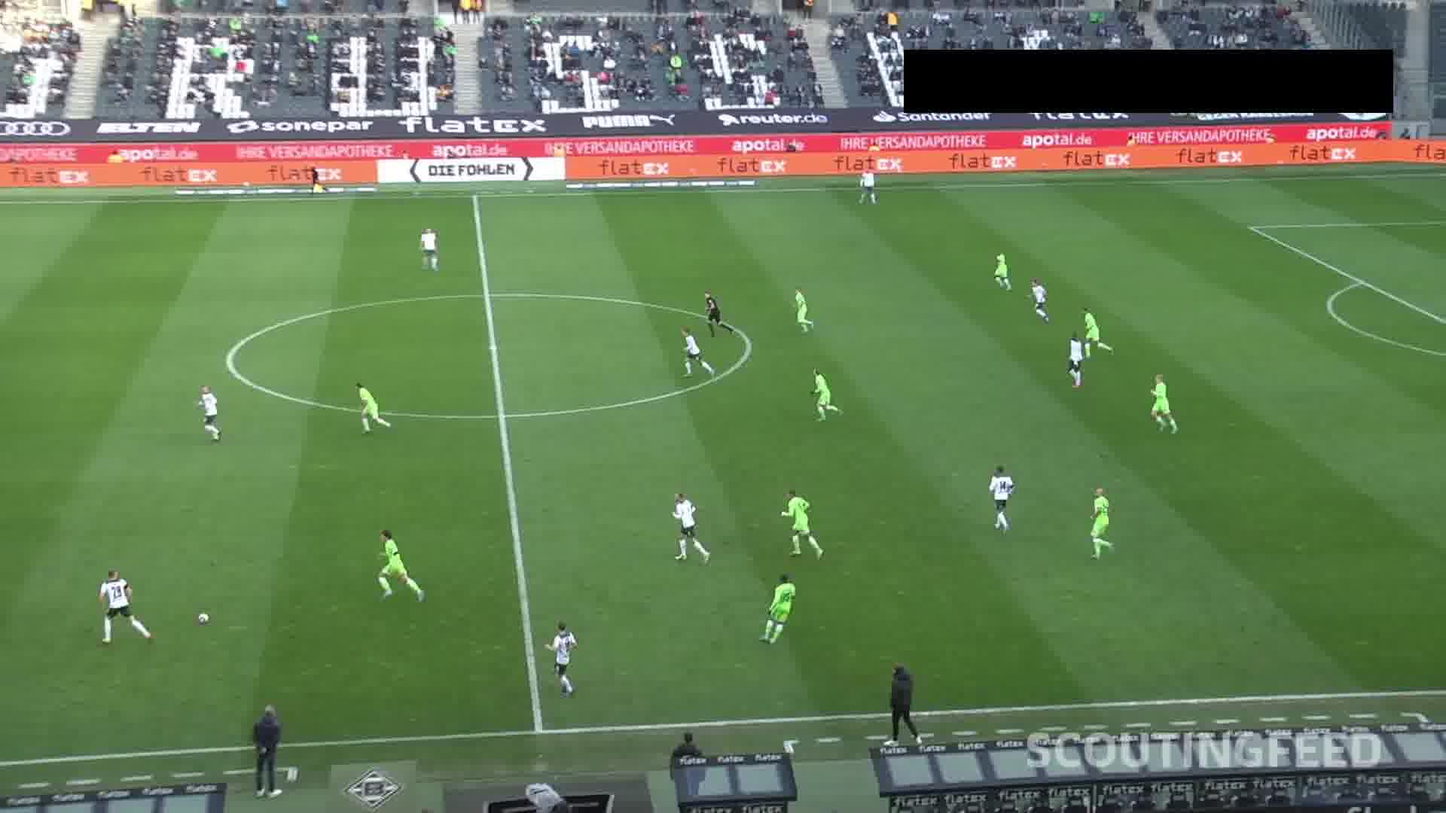ball: (196, 612, 214, 628)
coach_staff: (884, 661, 928, 745), (252, 701, 287, 804), (668, 726, 707, 797)
player: (1074, 481, 1133, 570), (92, 565, 154, 649), (670, 487, 715, 569), (543, 619, 589, 698), (780, 487, 825, 558), (377, 528, 419, 598), (758, 573, 795, 651), (349, 377, 393, 440), (1147, 374, 1188, 435), (988, 457, 1019, 534), (806, 369, 846, 424), (1078, 299, 1114, 359), (675, 327, 714, 379), (192, 386, 227, 443), (417, 219, 447, 273), (791, 281, 818, 333), (988, 251, 1016, 297), (1025, 278, 1052, 324), (1066, 335, 1087, 386), (858, 164, 880, 208)
referee: (700, 285, 734, 336), (309, 164, 329, 194)
